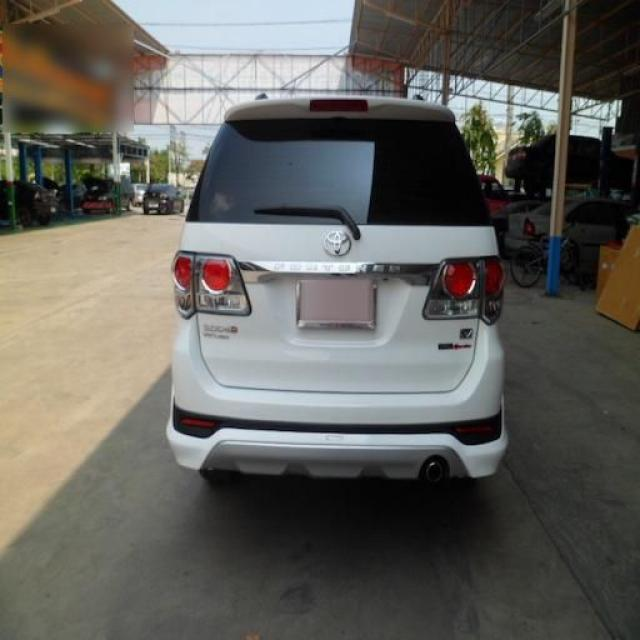back_bumper: (166, 314, 508, 479)
back_glass: (186, 114, 494, 227)
back_left_light: (172, 251, 250, 318)
back_right_light: (424, 255, 504, 325)
trunk: (178, 223, 498, 394)
